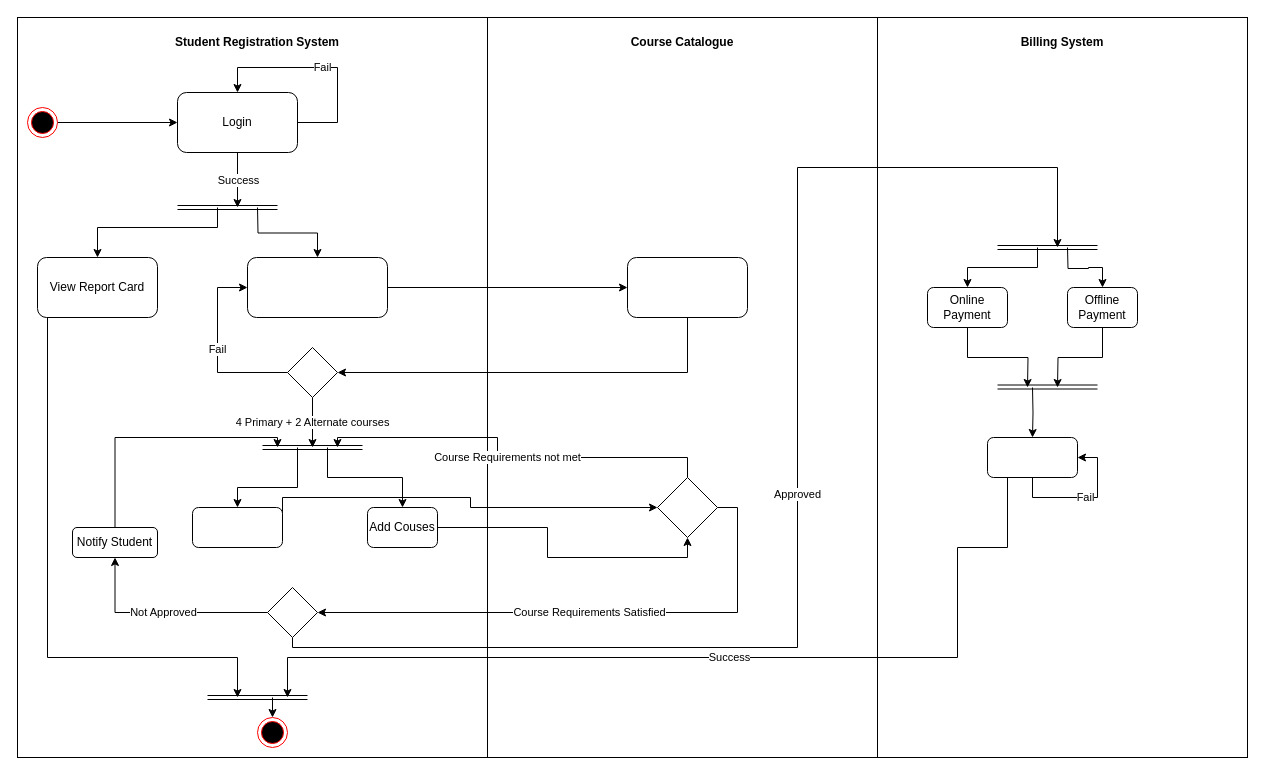
Some shapes in this 1265 by 775 pixel diagram are drawn without their labels. The shapes that lost their labels are listed below. From the top down, each one's centre as x and y in pixels, then its label:
At (317,287): "Registration For Semester".
At (687,287): "View Courses".
At (1032,457): "Pay Fee".
At (237,527): "Drop Courses".
